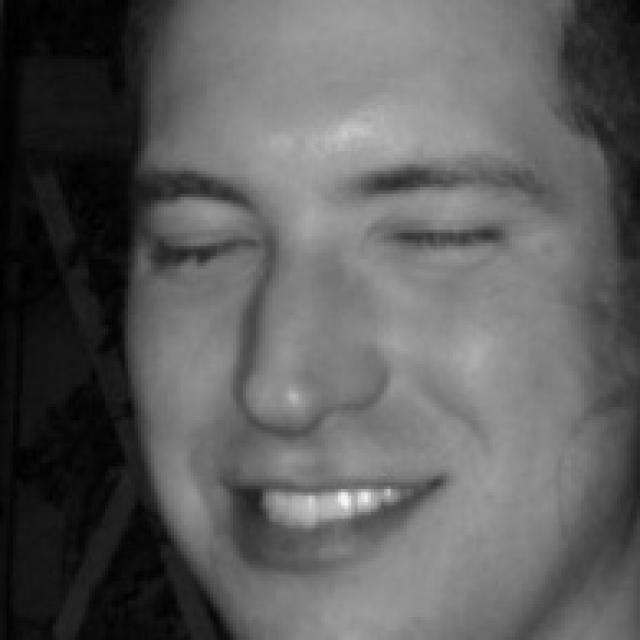real: (111, 0, 640, 627), (140, 178, 538, 306)
